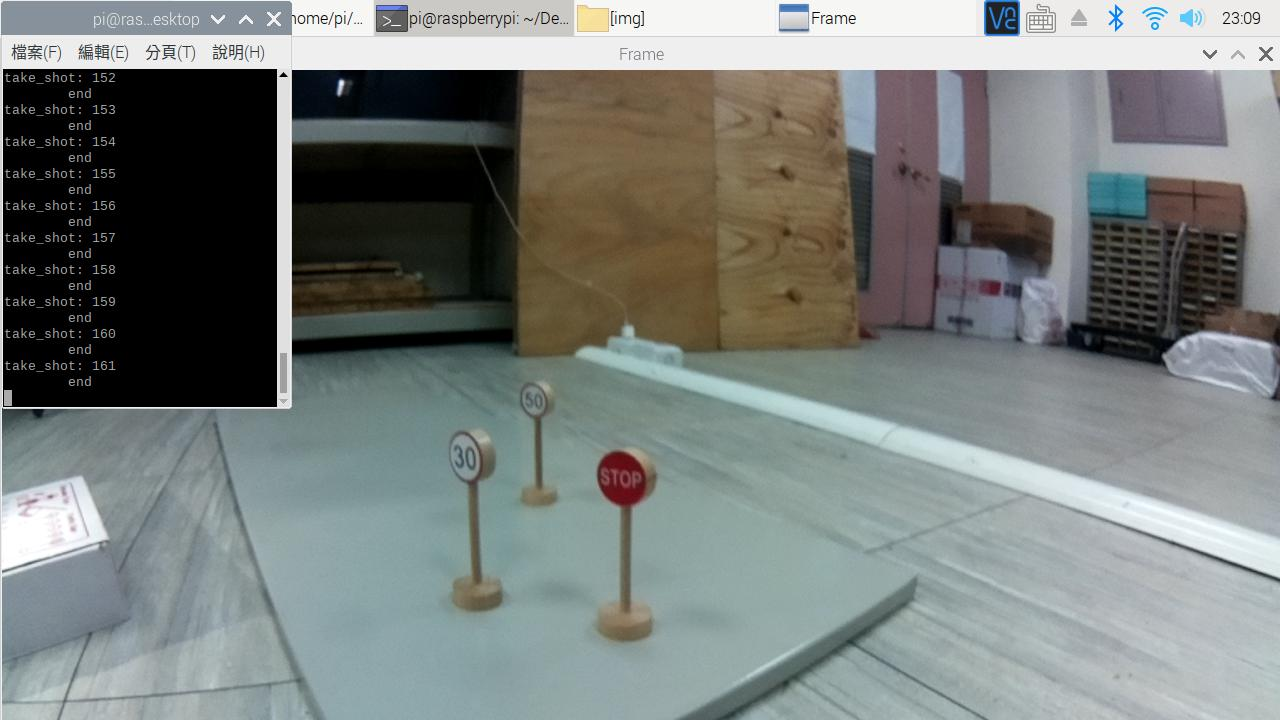Speed30: (430, 418, 507, 495)
Speed50: (513, 375, 566, 422)
Stop: (578, 444, 676, 515)
